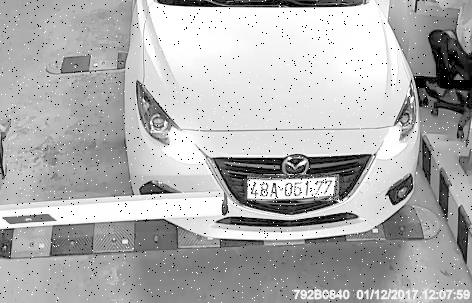License-plate: (249, 176, 342, 204)
